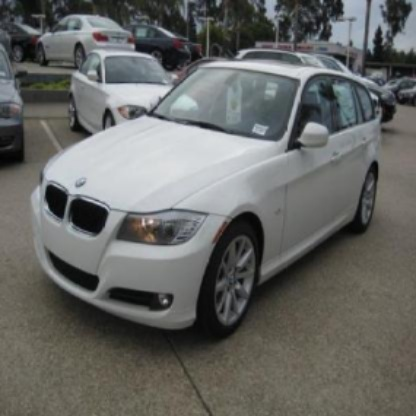Vehicle: (27, 57, 386, 349)
